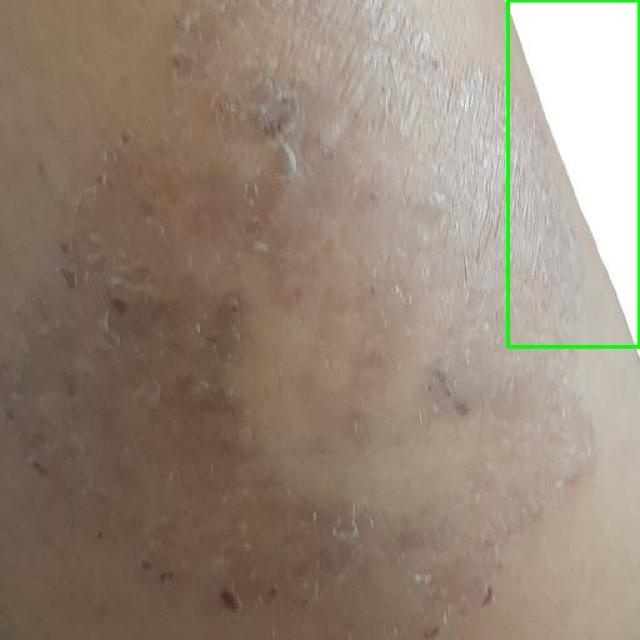Tinea Corporis: (508, 0, 639, 346)
